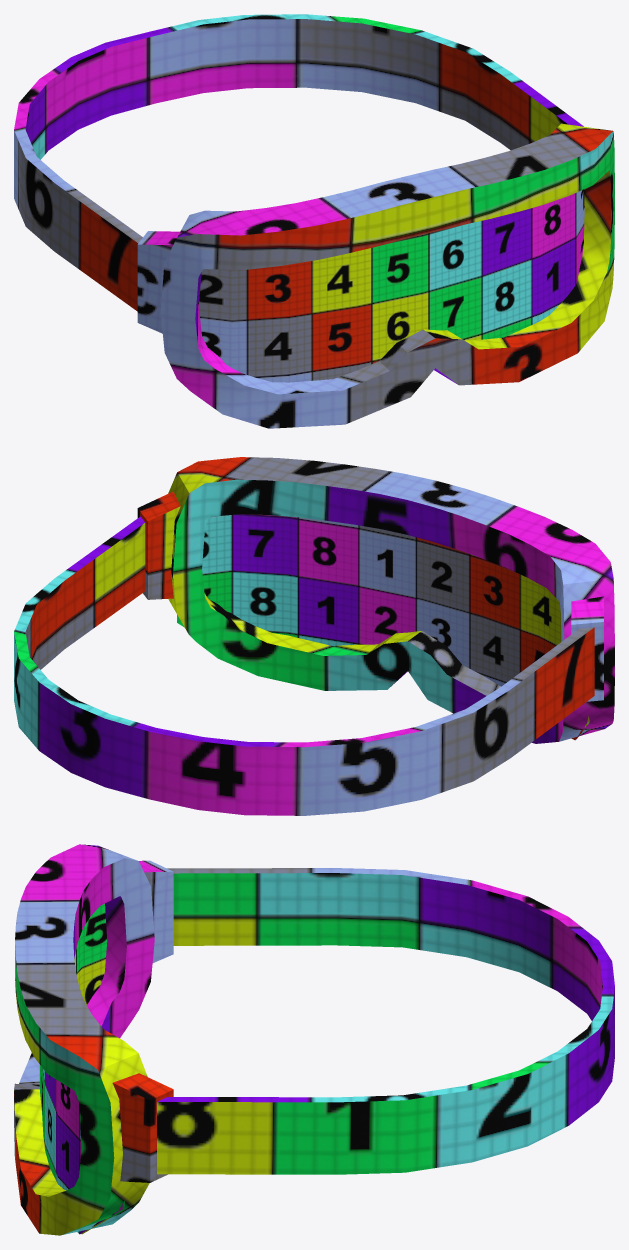
Rendered from Divice.fbx.
3 renders of one model, top to bottom at view 1: azimuth 30°, elevation 25°; view 2: azimuth 150°, elevation 25°; view 3: azimuth 270°, elevation 25°, orthographic. The views are drawn at different scales.
Visible parts, largest first — view 1: Object001, Box001; view 2: Object001, Box001; view 3: Object001, Box001.
Part boxes in pixels (x1,y1,x2,y2): Object001: (14,14,614,428); Box001: (199,189,584,382); Object001: (14,457,614,815); Box001: (177,514,589,740); Object001: (14,844,614,1235); Box001: (39,903,124,1234).
Size of the model in its own units: 213 by 91.34 by 226.
Materials: 2 (2 with a texture image).
